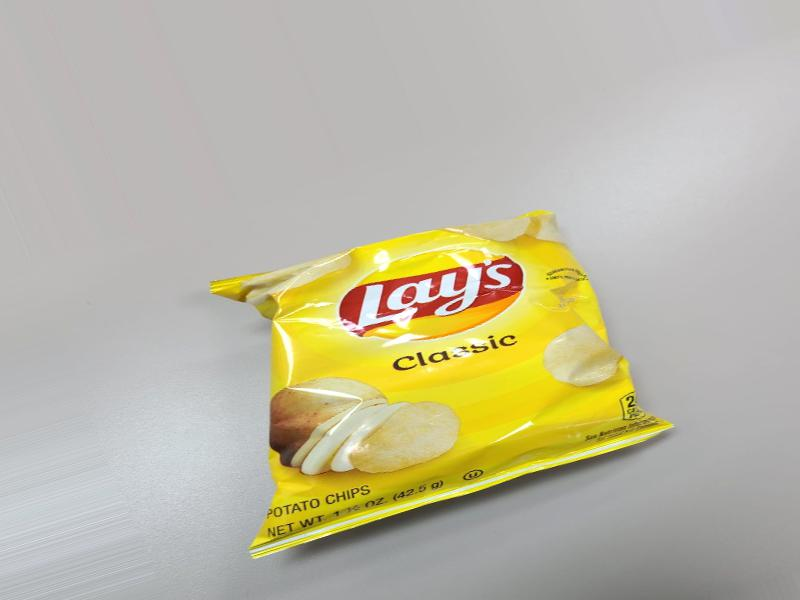lays: (278, 236, 637, 533)
